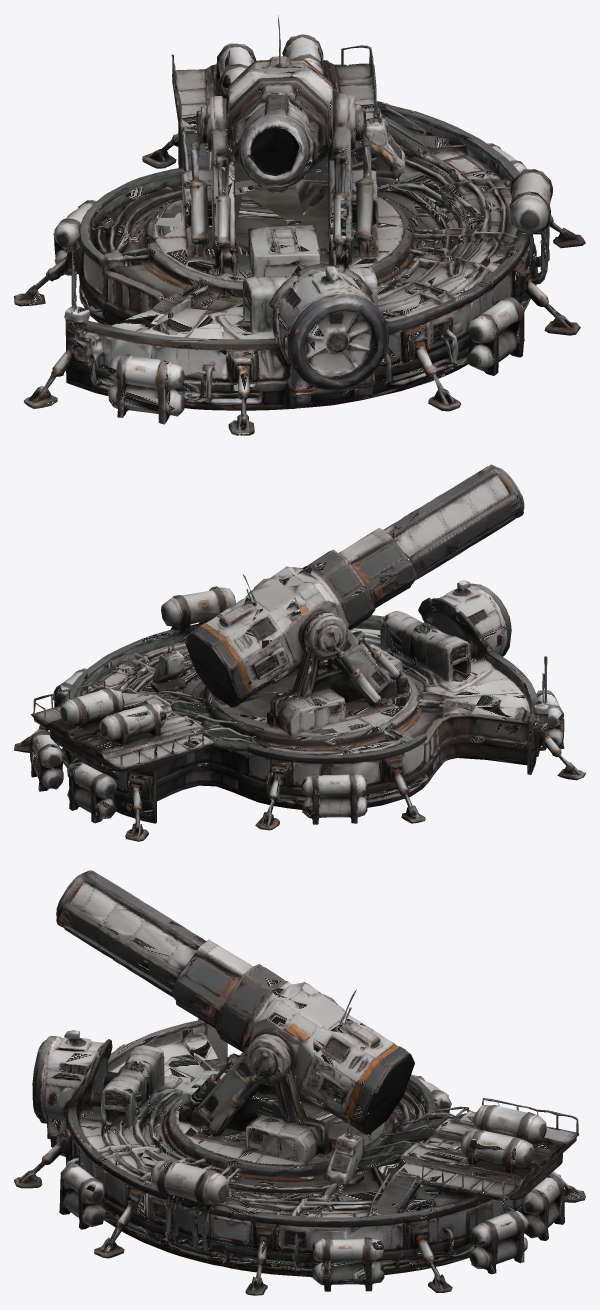
Rendered from life-support-cannon.glb.
The picture shows the model from 3 angles, top to bottom: view 1: azimuth 30°, elevation 25°; view 2: azimuth 150°, elevation 25°; view 3: azimuth 270°, elevation 25°; orthographic projection. The views are drawn at different scales.
Visible parts, largest first — view 1: tripo_node_bca8d95d-a73c-4f25-98bc-38f0bcaf7ba4; view 2: tripo_node_bca8d95d-a73c-4f25-98bc-38f0bcaf7ba4; view 3: tripo_node_bca8d95d-a73c-4f25-98bc-38f0bcaf7ba4.
Part boxes in pixels (box(x1,y1,x2,y2)): tripo_node_bca8d95d-a73c-4f25-98bc-38f0bcaf7ba4: box(14, 15, 585, 435); tripo_node_bca8d95d-a73c-4f25-98bc-38f0bcaf7ba4: box(14, 464, 585, 841); tripo_node_bca8d95d-a73c-4f25-98bc-38f0bcaf7ba4: box(14, 870, 585, 1295).
Size of the model in its own units: 0.9798 by 0.4844 by 0.9714.
1 material, 1 textured.
